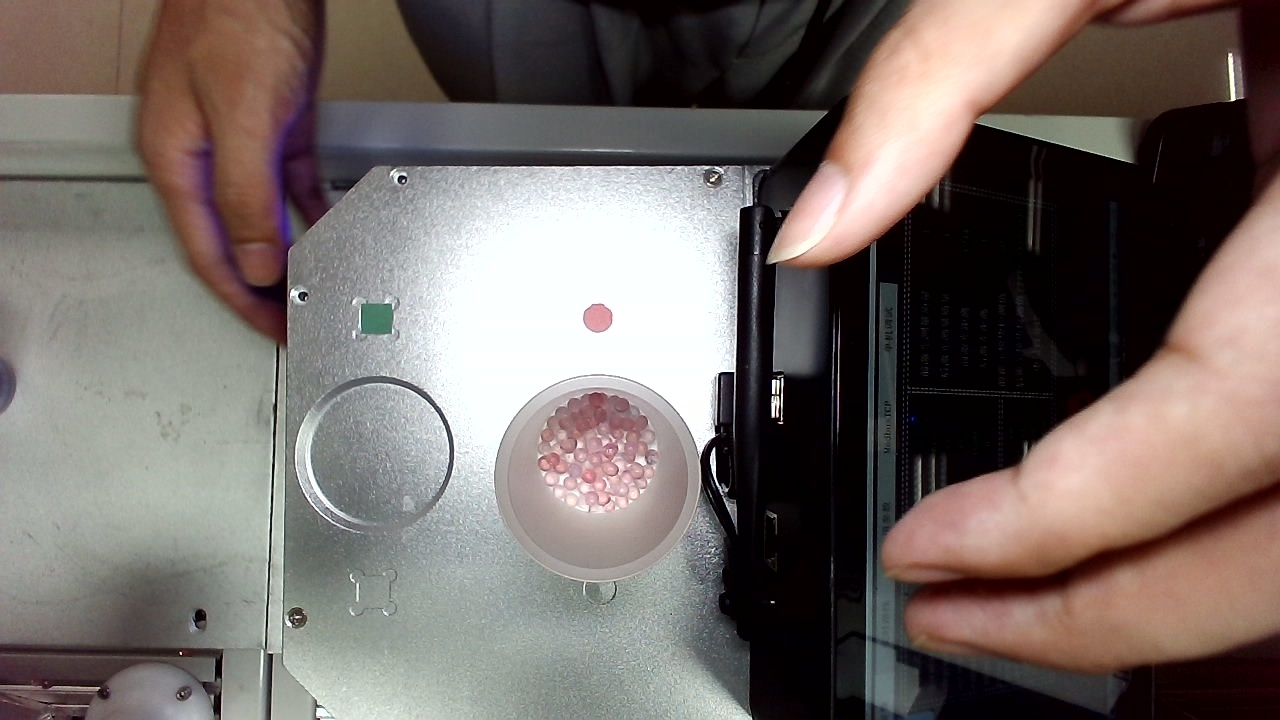bad: (770, 587, 817, 634), (254, 88, 302, 133), (282, 586, 327, 634), (745, 3, 786, 47), (258, 164, 301, 205), (705, 630, 746, 671), (679, 71, 720, 112), (483, 633, 524, 674), (285, 27, 325, 66), (397, 166, 436, 206), (832, 52, 873, 89), (535, 441, 571, 483), (358, 91, 397, 129), (821, 498, 858, 538), (393, 451, 430, 489), (830, 128, 866, 167), (843, 187, 880, 224), (852, 495, 891, 530), (843, 275, 879, 312), (822, 292, 853, 330), (852, 455, 886, 489)
defact: (674, 116, 716, 144)
pass: (587, 143, 625, 198), (465, 498, 508, 542), (628, 577, 669, 623), (390, 528, 432, 571), (369, 476, 409, 520), (330, 510, 372, 550), (576, 291, 615, 333), (744, 630, 782, 672), (570, 218, 608, 259), (851, 408, 885, 452), (580, 251, 618, 289), (389, 394, 428, 431), (760, 212, 798, 249), (686, 597, 722, 635), (670, 635, 706, 672), (744, 240, 782, 275), (611, 42, 647, 78), (594, 9, 628, 47)
toolong: (813, 391, 854, 462), (287, 139, 331, 201), (655, 548, 695, 616)
unpass: (832, 216, 881, 267), (832, 1, 875, 51), (267, 428, 313, 473), (471, 564, 509, 614), (283, 296, 327, 337), (294, 71, 337, 110), (557, 537, 596, 577), (621, 152, 657, 195), (354, 303, 393, 342), (476, 26, 514, 66), (823, 564, 863, 601), (836, 530, 873, 569), (323, 34, 360, 72), (272, 202, 311, 238), (511, 399, 547, 437), (534, 48, 569, 87), (786, 300, 822, 337), (825, 161, 863, 193), (766, 549, 800, 583)
